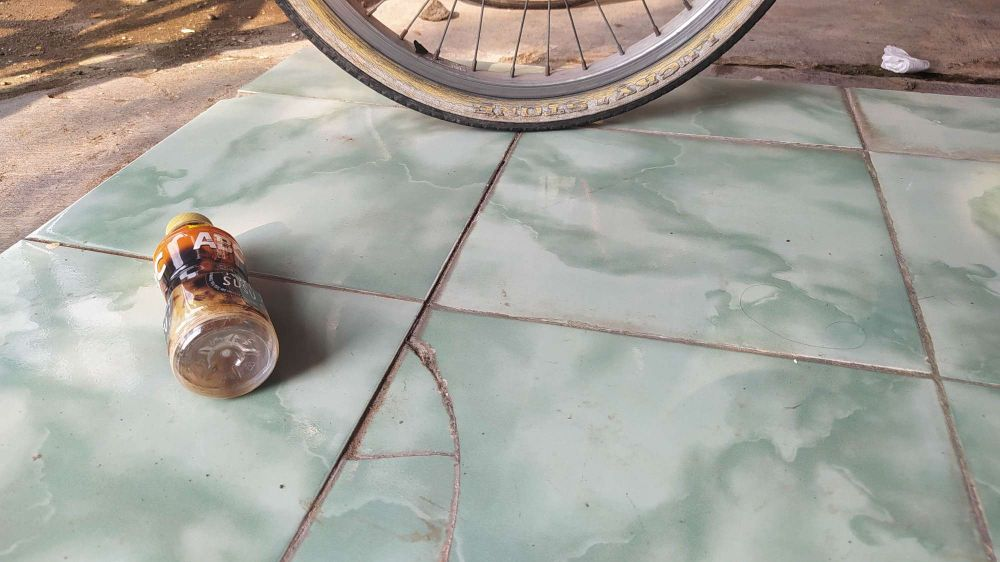botol: (121, 199, 310, 400)
